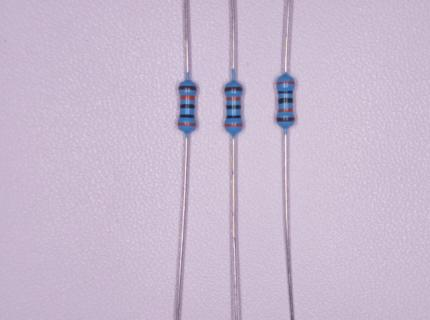Black band: (278, 98, 293, 104), (179, 103, 195, 108), (226, 115, 241, 120), (226, 105, 241, 110), (178, 114, 194, 118), (278, 90, 293, 94)
Brown band: (178, 85, 197, 91), (276, 117, 295, 123), (224, 87, 243, 92)
Orange band: (224, 123, 243, 128), (177, 122, 197, 126), (276, 81, 295, 85), (180, 95, 195, 100), (278, 108, 294, 112), (226, 97, 241, 101)
